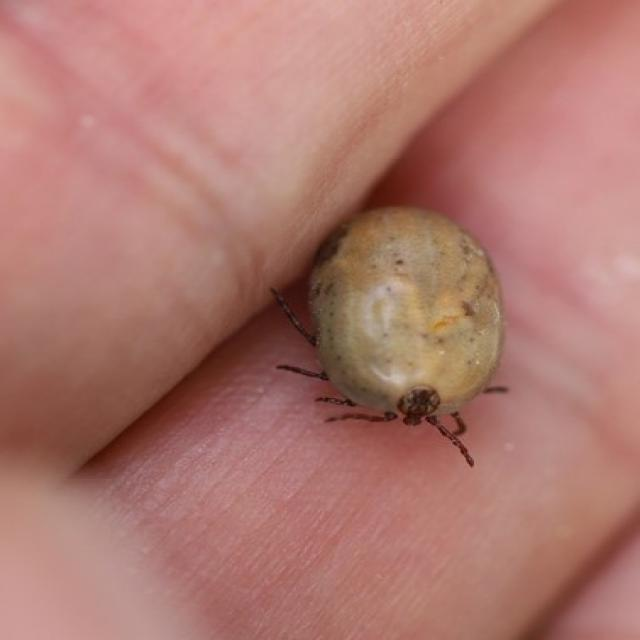Dermacentor Reticulatus-F-Fed: (268, 204, 510, 467)
